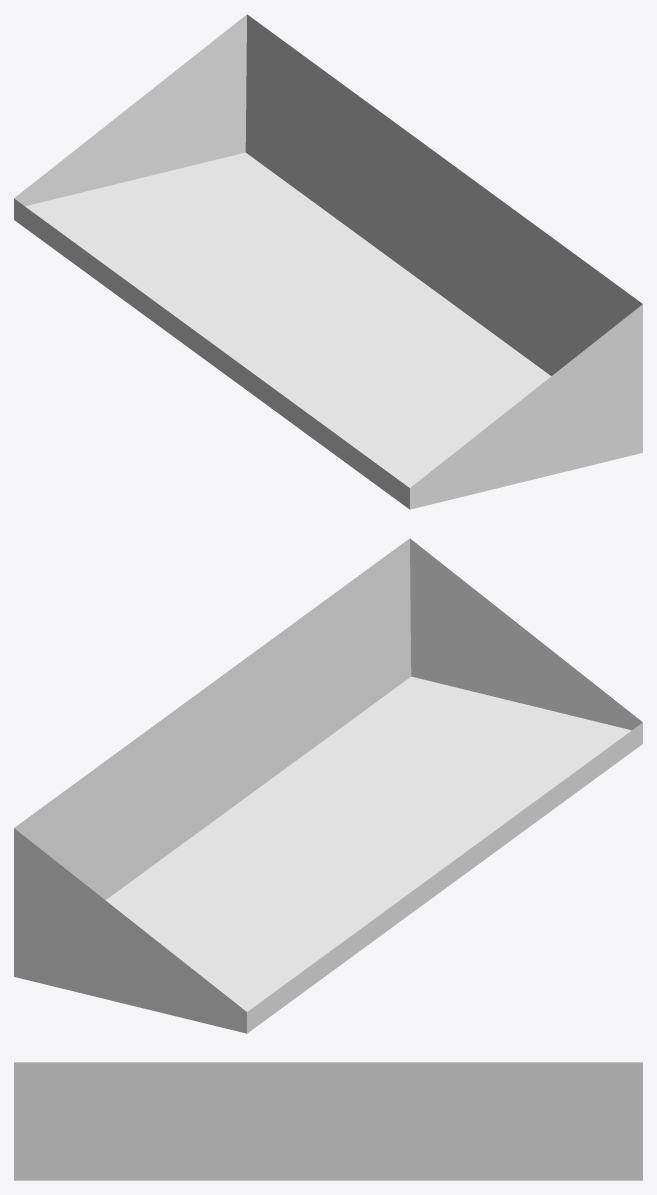
Rendered from WallShelf.fbx.
3 views of the same model, one above another, from view 1: azimuth 30°, elevation 25°; view 2: azimuth 150°, elevation 25°; view 3: azimuth 270°, elevation 25° (orthographic). The views are drawn at different scales.
Parts seen in each view (by area): view 1: WallShelf1; view 2: WallShelf1; view 3: WallShelf1.
Part boxes in pixels (x1,y1,x2,y2): WallShelf1: (14, 14, 642, 509); WallShelf1: (14, 538, 642, 1033); WallShelf1: (14, 1062, 642, 1180).
Bounding box in the file's own units: 132 × 80.39 × 388.
